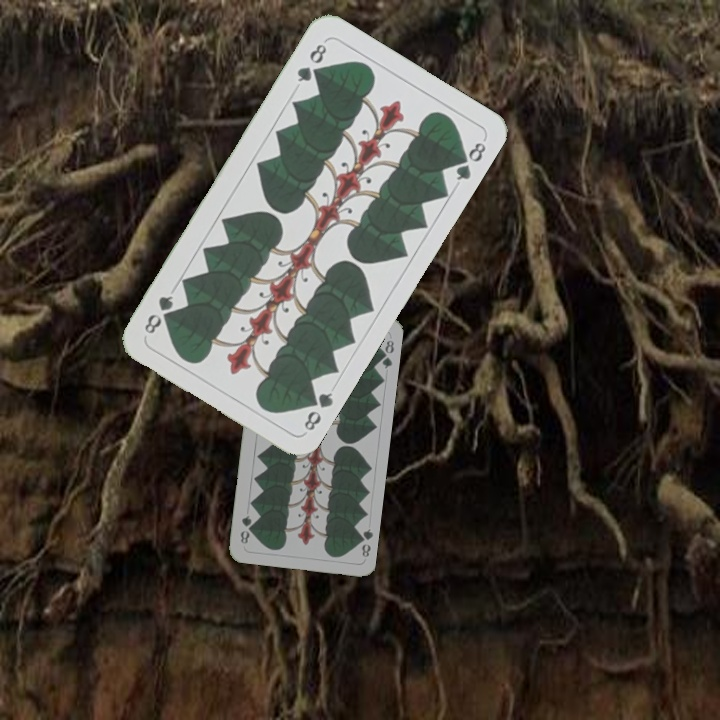G8: (292, 39, 330, 85), (300, 388, 336, 434), (354, 525, 375, 559)
